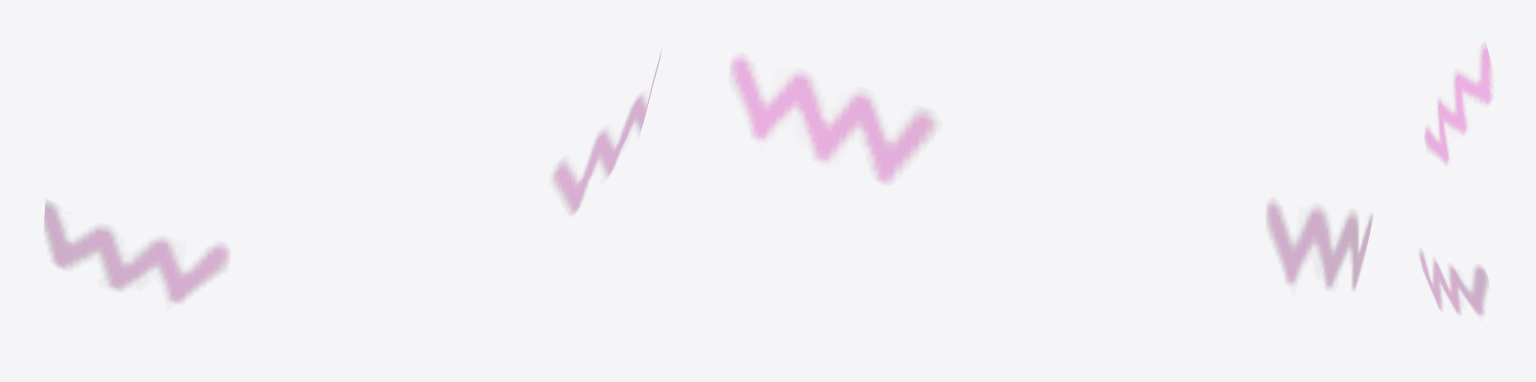
The picture shows the model from 3 angles, left to right: view 1: azimuth 30°, elevation 25°; view 2: azimuth 150°, elevation 25°; view 3: azimuth 270°, elevation 25°; orthographic projection. The views are drawn at different scales.
Visible parts, largest first — view 1: _4, _3; view 2: _3, _4; view 3: _4, _3.
Part boxes in pixels (box(x1,y1,x2,y2)): _4: box(44, 201, 227, 302); _3: box(552, 54, 660, 212); _3: box(730, 58, 937, 181); _4: box(1267, 202, 1372, 288); _4: box(1425, 43, 1492, 163); _3: box(1419, 250, 1488, 314).
Size of the model in its own units: 0.587 by 0.2019 by 0.1214.
1 material, 1 textured.
